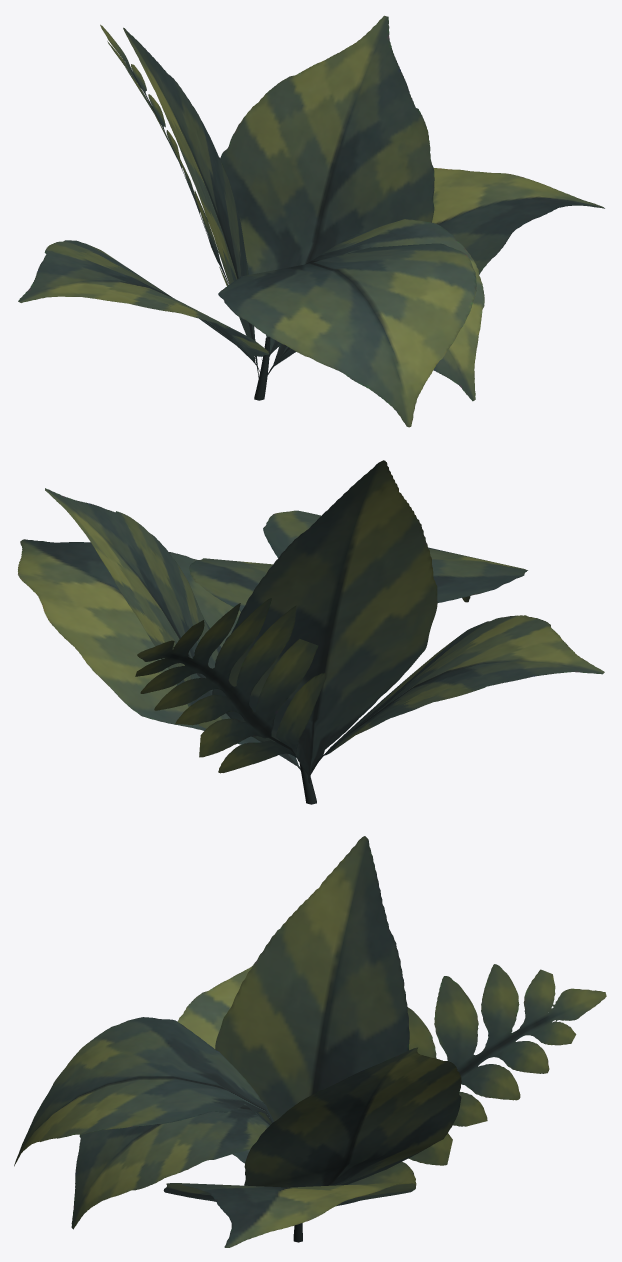
The model's file is SM_FR_BushRounded.fbx.
3 views of the same model, one above another, from view 1: azimuth 30°, elevation 25°; view 2: azimuth 150°, elevation 25°; view 3: azimuth 270°, elevation 25° (orthographic). The views are drawn at different scales.
Parts seen in each view (by area): view 1: SM_FR_BushRounded; view 2: SM_FR_BushRounded; view 3: SM_FR_BushRounded.
Part boxes in pixels (box(x1,y1,x2,y2)): SM_FR_BushRounded: box(18, 15, 604, 427); SM_FR_BushRounded: box(18, 460, 604, 804); SM_FR_BushRounded: box(14, 836, 606, 1247).
Bounding box in the file's own units: 2.16 × 1.35 × 2.03.
Materials: 1 (1 with a texture image).
